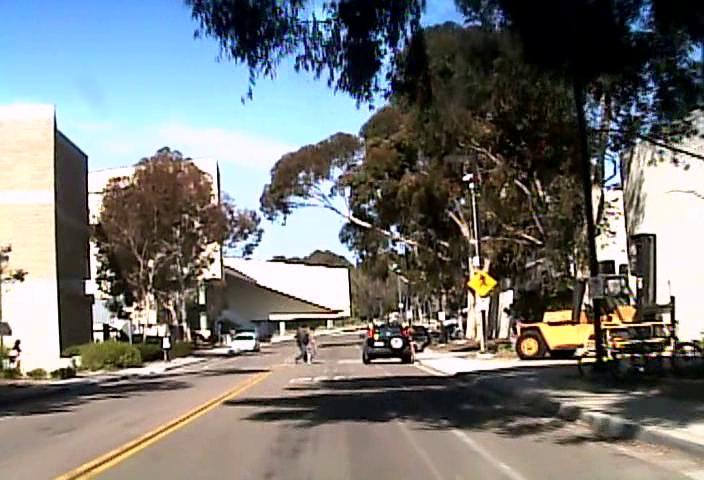pedestrianCrossing: (466, 267, 496, 296)
